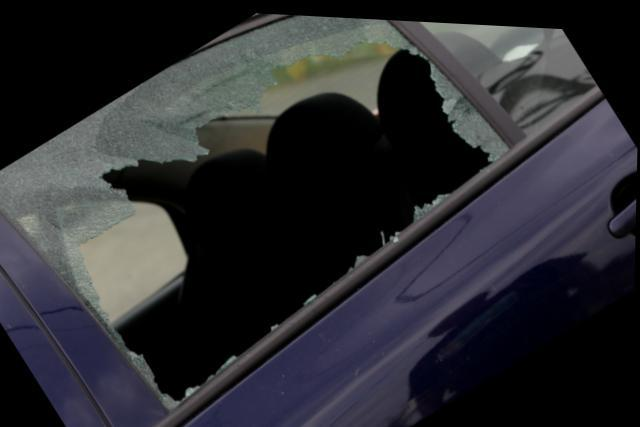glass shatter: (0, 12, 511, 409)
